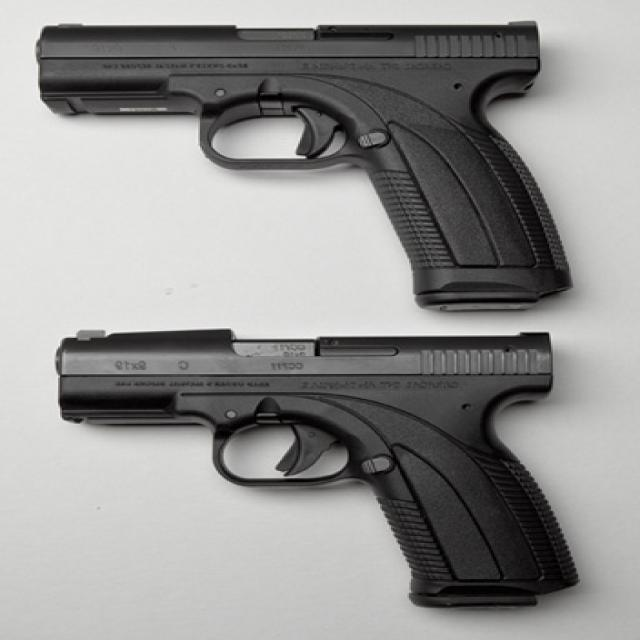Gun: (35, 17, 614, 317), (34, 323, 604, 621)
